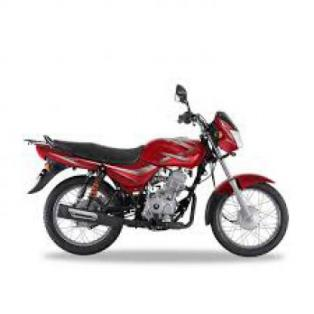Motocicleta: (12, 80, 296, 273)
